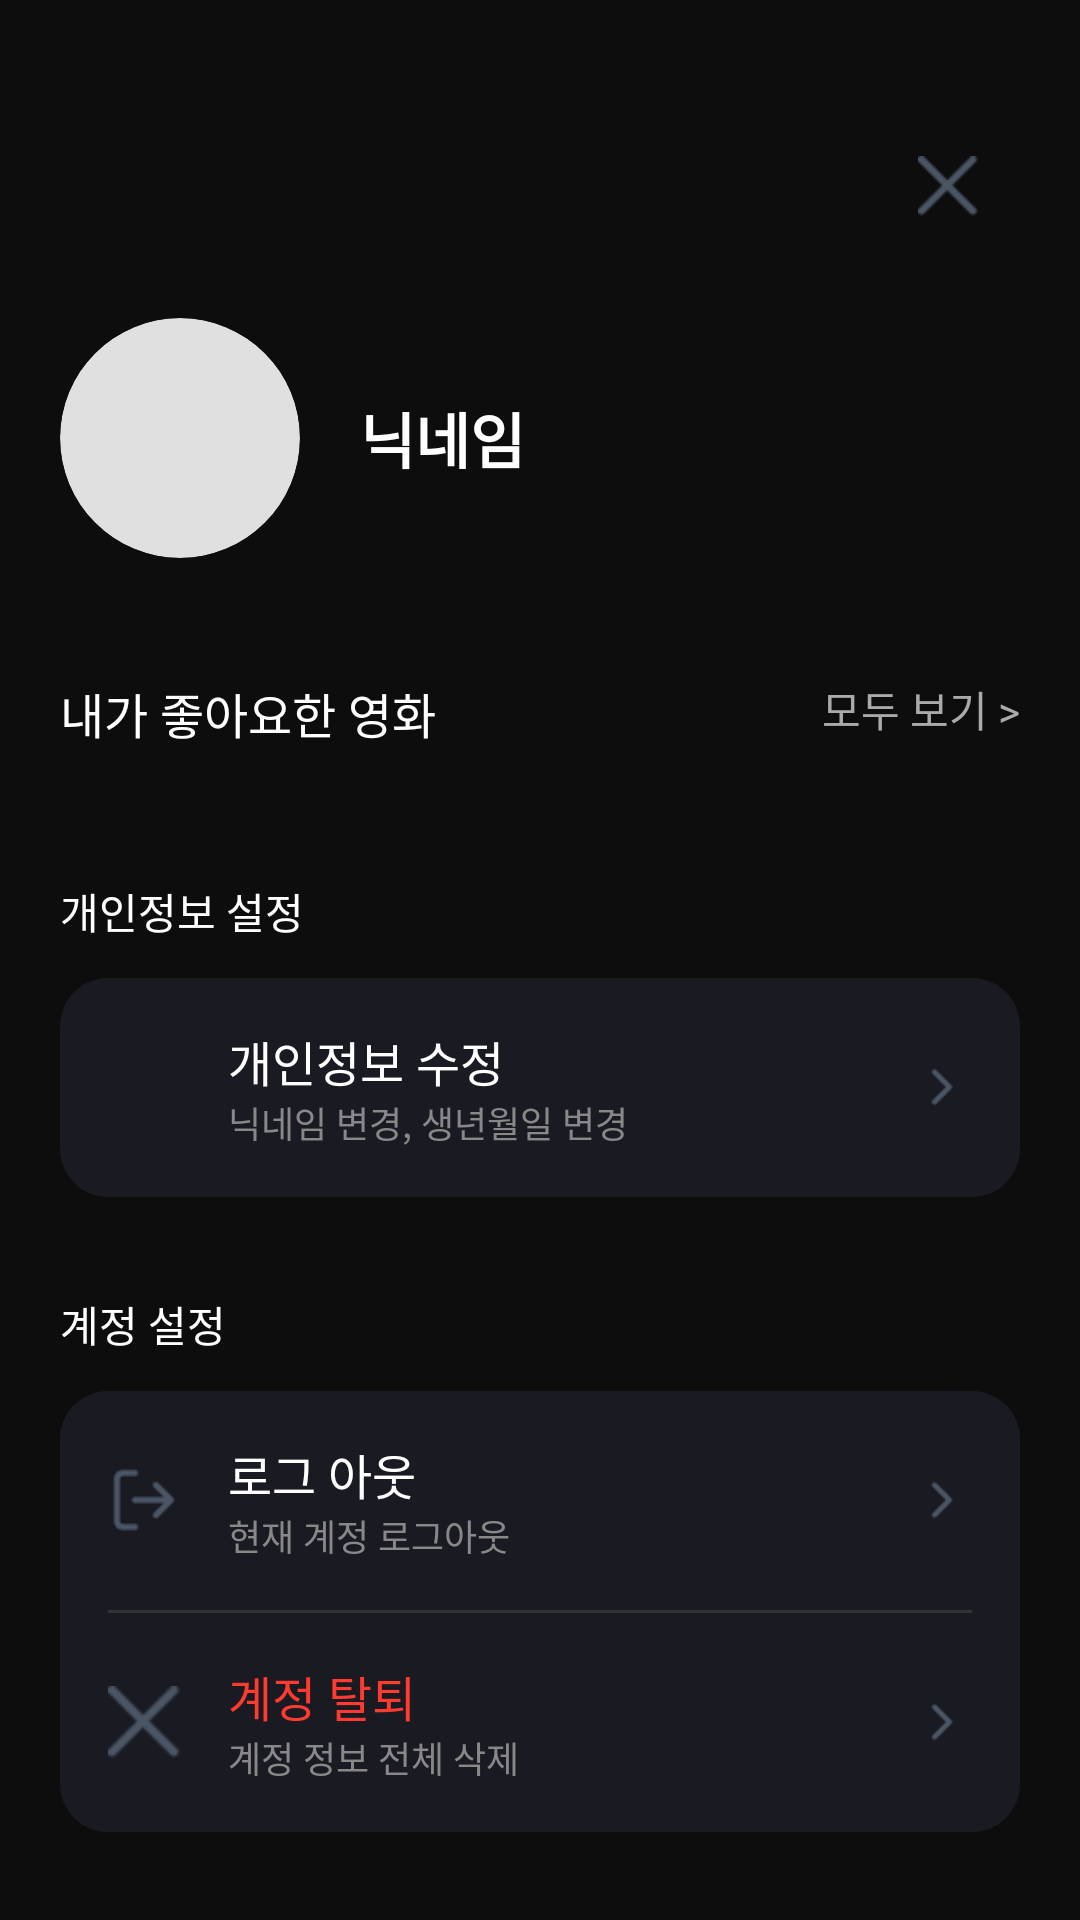

Where to tap for icons on this 1080×1920 app screen, as [x,y]:
마이페이지 닫기: [948,186]
